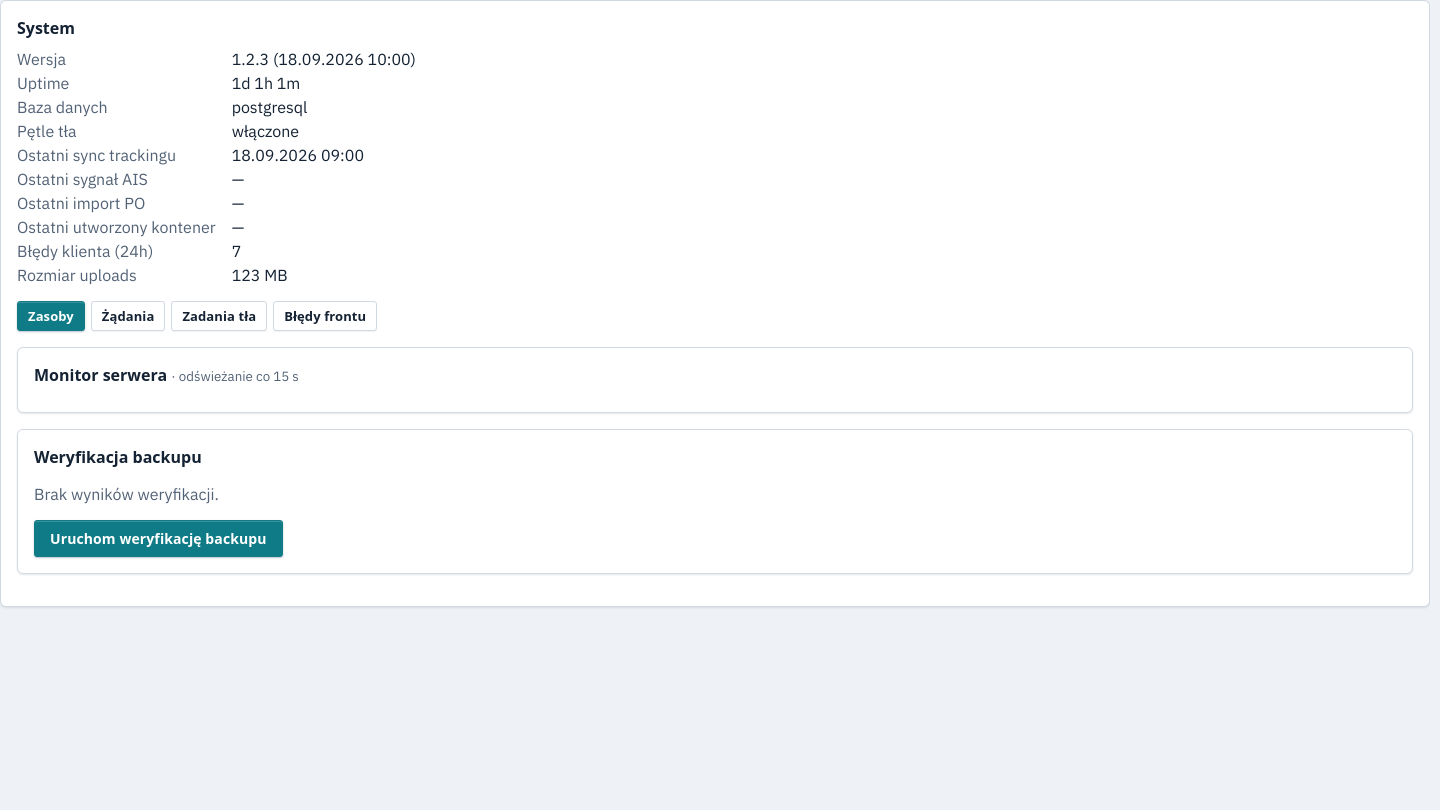
Test: Zakładka System › renderuje metryki i przycisk weryfikacji backupu woła endpoint
The image size is (1440, 810).
Expected: the text "1.2.3 (18.09.2026 10:00)" is shown, top-left (232, 49), bottom-right (416, 69)
Expected: the text "postgresql" is shown, top-left (232, 97), bottom-right (307, 117)
Click the button "Uruchom weryfikację backupu": coordinates (158, 538) top-left (34, 520), bottom-right (282, 557)
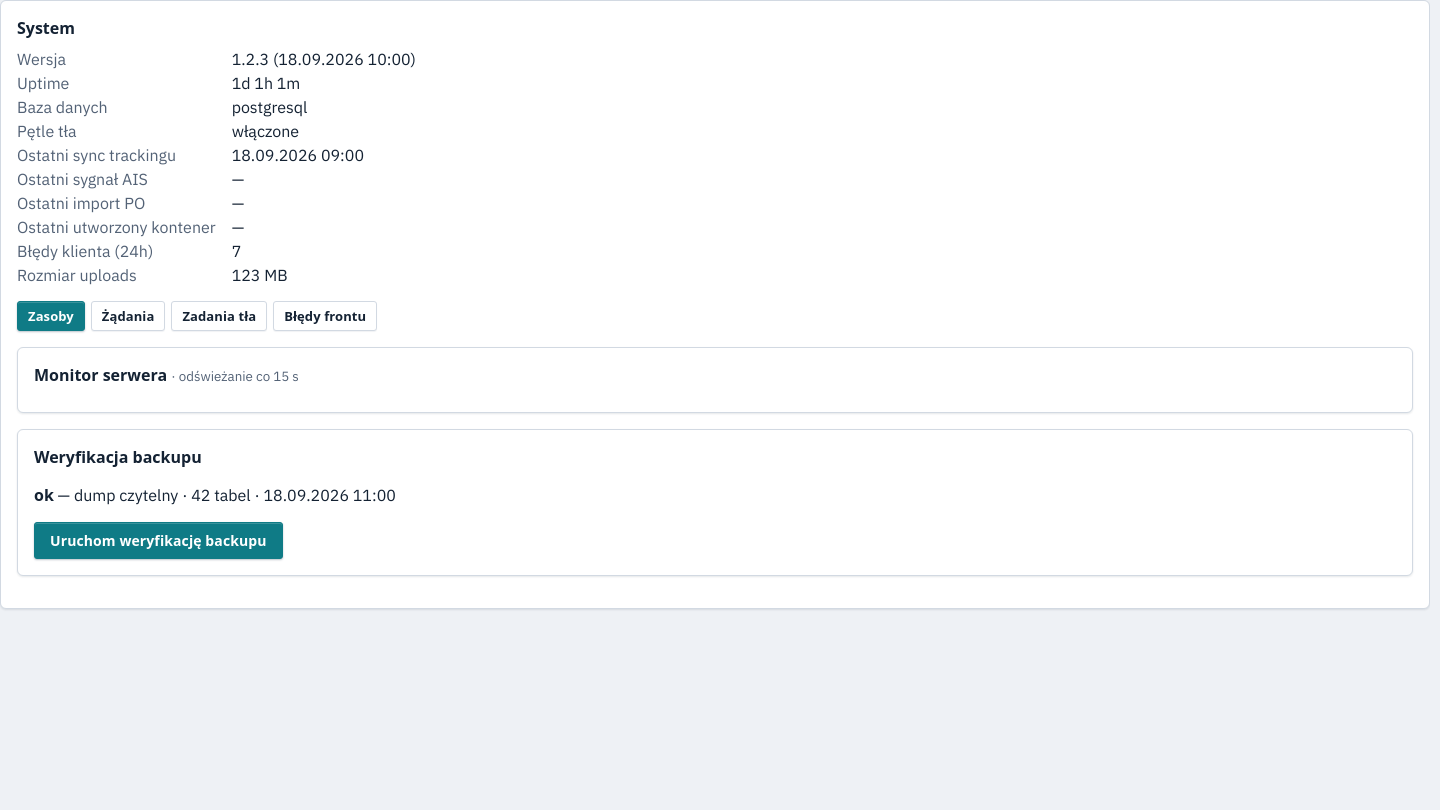
Result: the text "ok — dump czytelny · 42 tabel · 18.09.2026 11:00" is shown at top-left (34, 484), bottom-right (396, 506)
